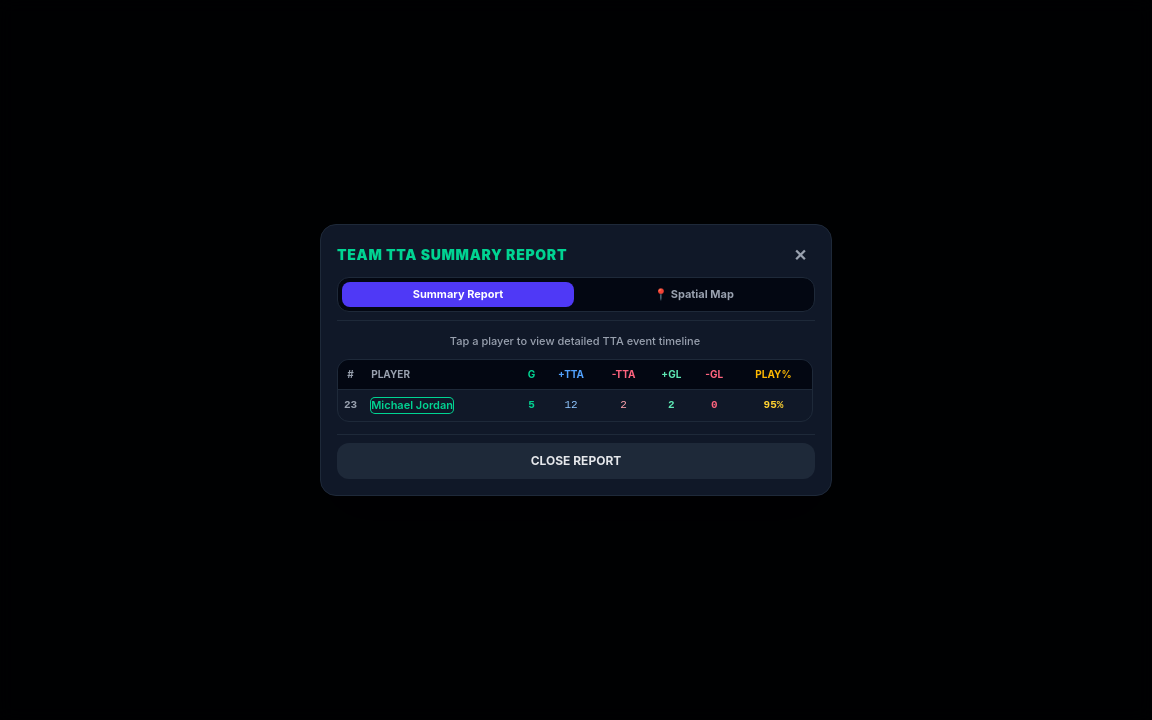
MatchReportModal › navigates to player detailed report when player button is focused and activated
The width and height of the screenshot is (1152, 720).
Click the button "Michael Jordan" at (412, 406), box [371,398,453,413]
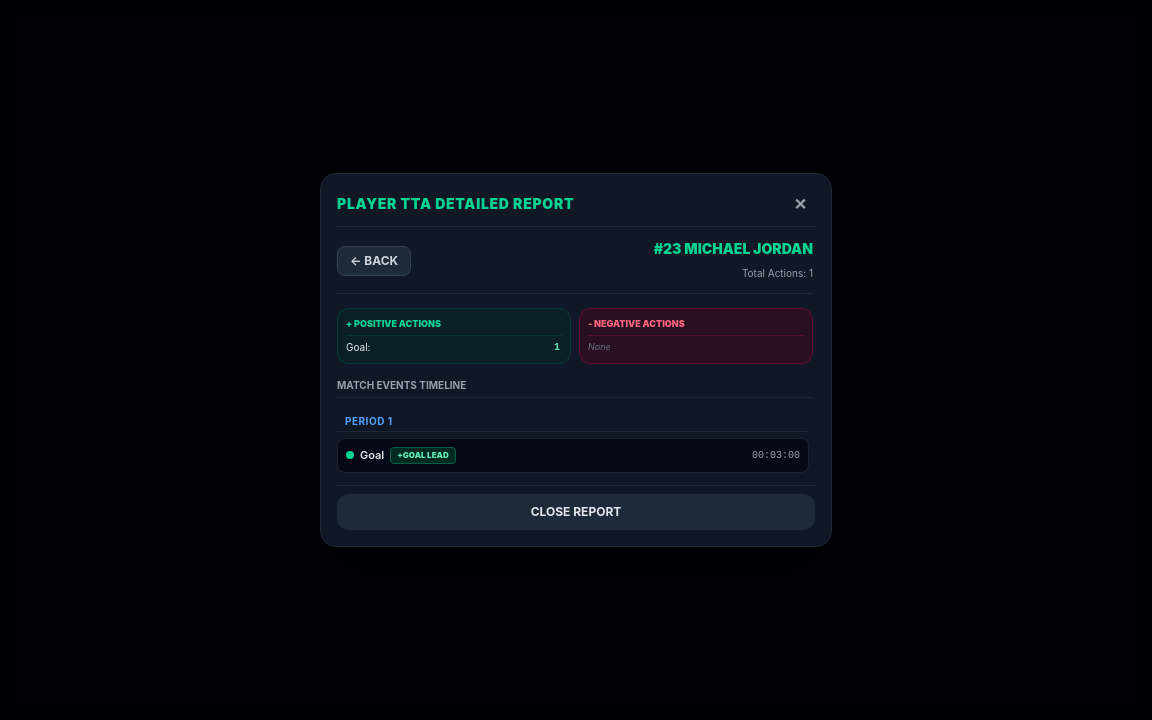
Now the heading "Player TTA Detailed Report" is shown, box [337,194,574,214]
